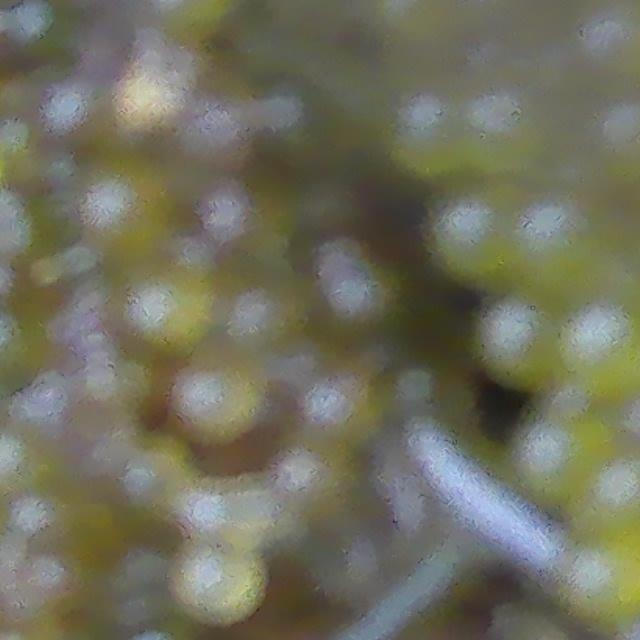SeaGrape: (177, 351, 256, 450), (484, 297, 564, 390), (529, 187, 603, 285), (176, 547, 263, 625), (440, 186, 519, 267), (473, 99, 552, 172), (578, 304, 640, 396), (138, 271, 212, 343), (526, 423, 596, 493), (319, 380, 380, 436), (287, 453, 338, 515)
